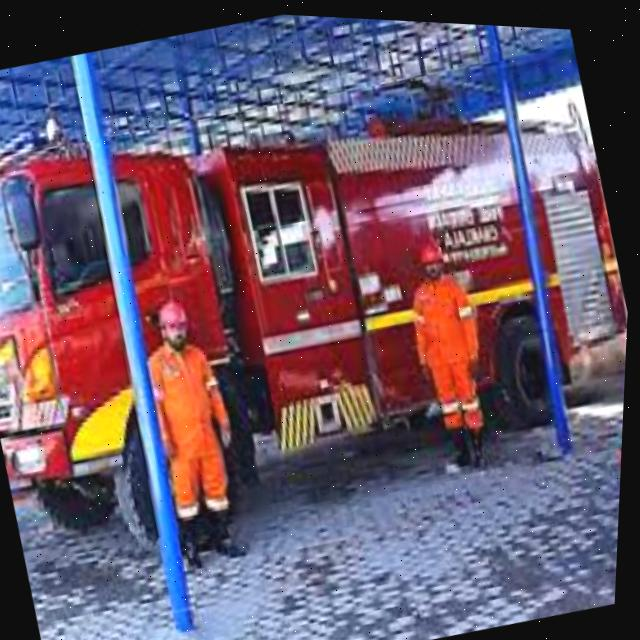Fire Truck: (0, 16, 639, 586)
